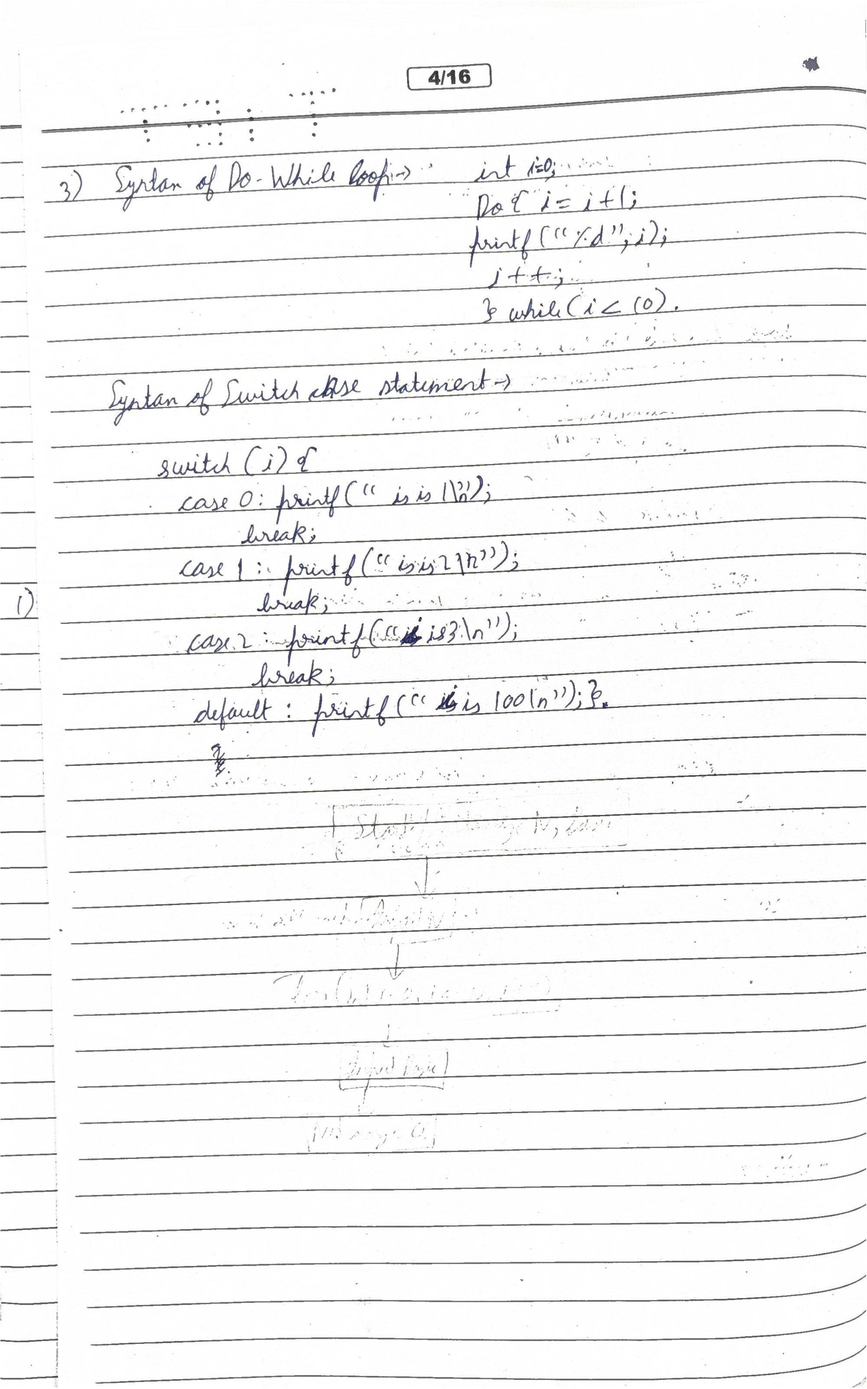cuttings: (206, 738, 229, 781)
